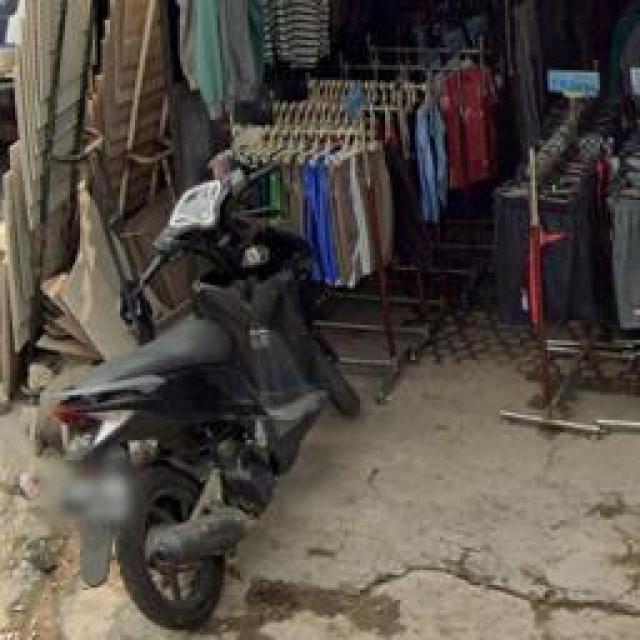Motor: (38, 162, 360, 630)
